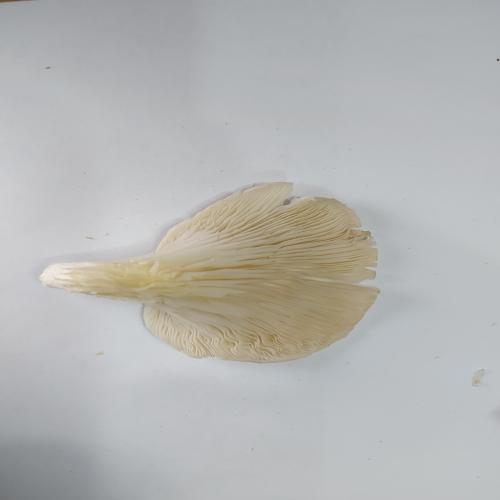Oyster Mushroom: (38, 180, 381, 364)
